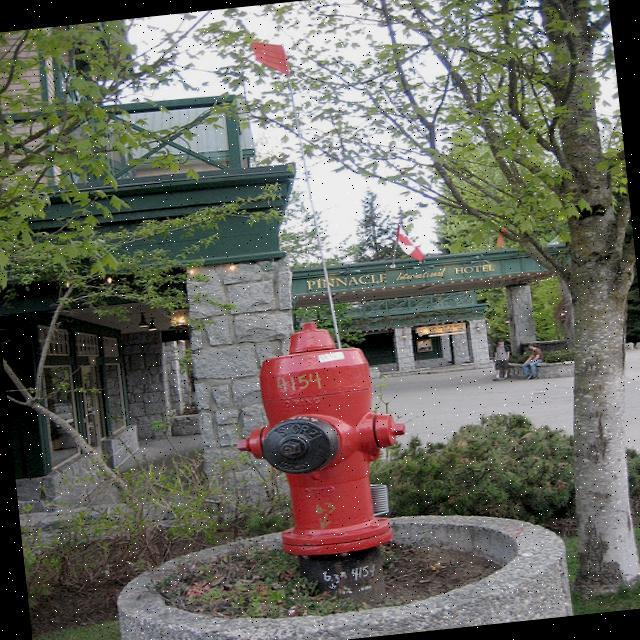fire_hydrant: (226, 312, 424, 568)
